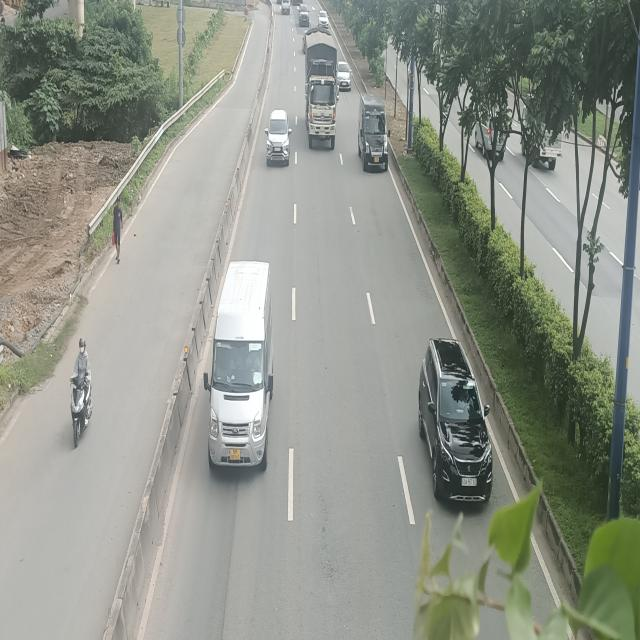car: (418, 336, 494, 501), (265, 109, 290, 167), (337, 60, 352, 89), (318, 10, 329, 28)
truck: (304, 28, 340, 149)
van: (202, 260, 275, 468), (358, 95, 390, 170)
